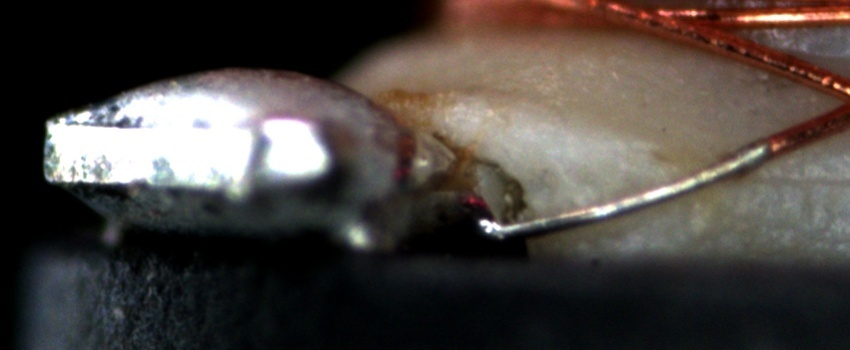CL: (808, 65, 850, 136)
DL: (704, 148, 850, 212)
TS: (481, 142, 771, 238)
